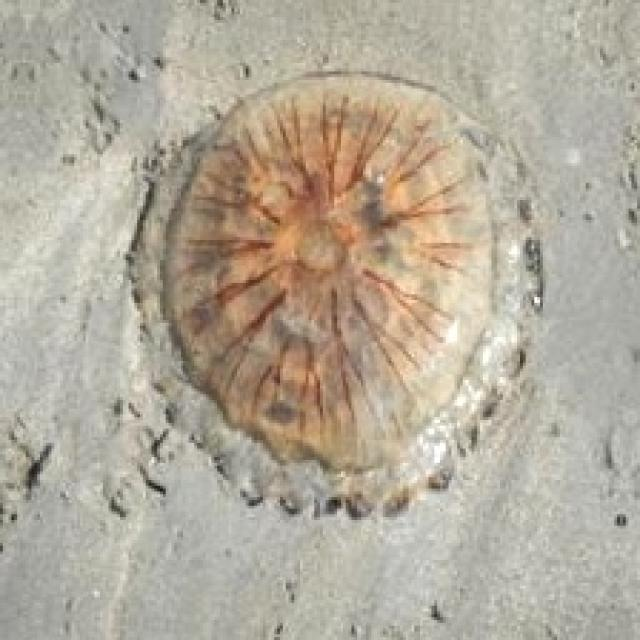Box-jellyfish: (134, 69, 546, 517)
